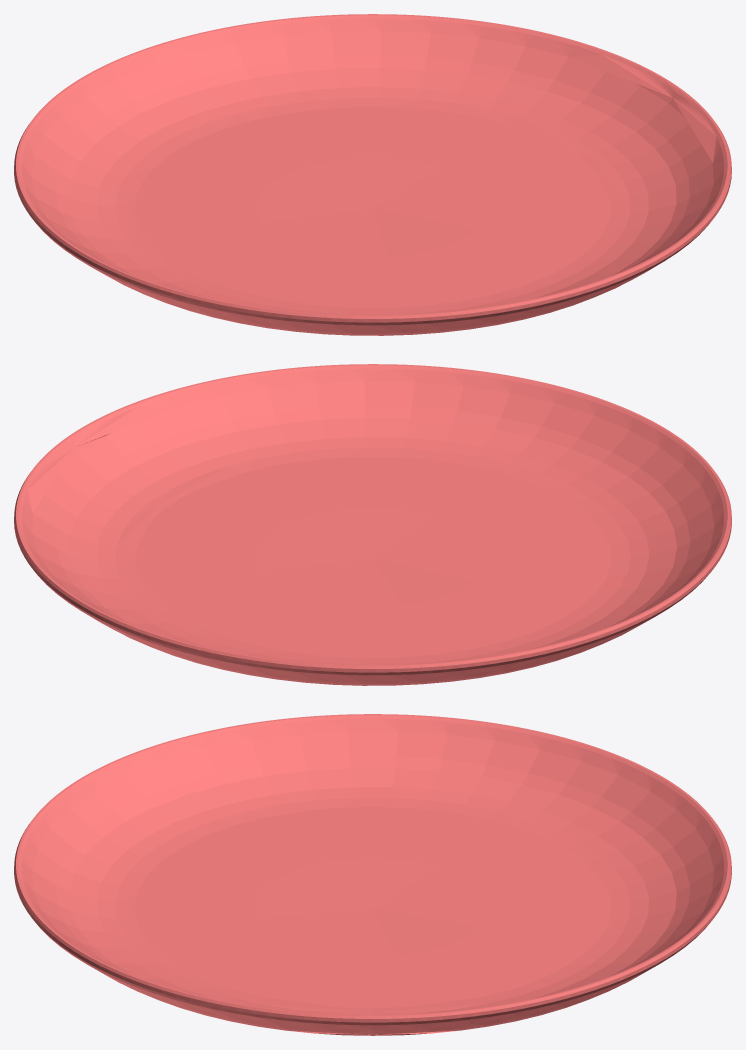
The model's file is jsk-plate.dae.
3 renders of one model, top to bottom at view 1: azimuth 30°, elevation 25°; view 2: azimuth 150°, elevation 25°; view 3: azimuth 270°, elevation 25°, orthographic.
Visible parts, largest first — view 1: base; view 2: base; view 3: base.
Boxes of the visible parts, x1,y1,x2,y2 form: base: [14, 14, 731, 335]; base: [14, 364, 731, 685]; base: [14, 714, 731, 1035].
Size of the model in its own units: 0.2297 by 0.2297 by 0.0249.
